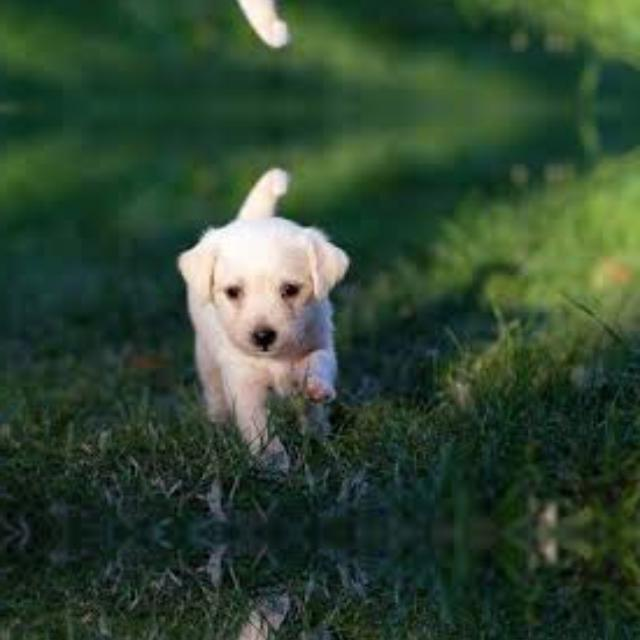dog: (154, 162, 370, 474), (154, 0, 370, 51), (154, 592, 370, 640)
